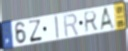6: (13, 21, 28, 46)
A: (99, 6, 117, 32)
I: (53, 15, 60, 40)
R: (63, 13, 80, 38), (83, 10, 98, 35)
Z: (28, 19, 44, 44)
